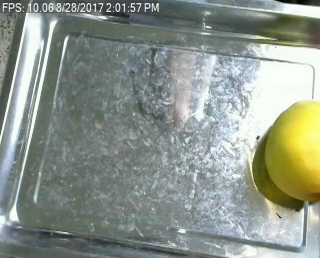Mango: (265, 99, 320, 203)
